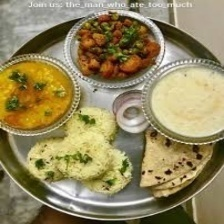dal: (0, 57, 76, 132)
